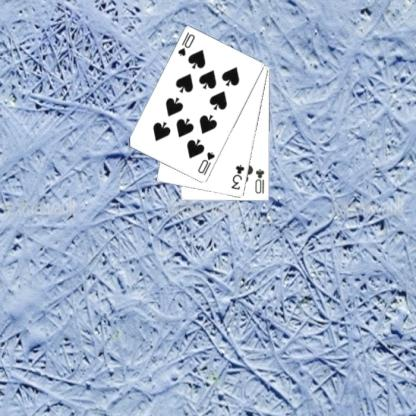10C: (252, 166, 266, 195)
10S: (195, 149, 216, 177), (175, 30, 196, 58)
3C: (229, 162, 246, 192)
